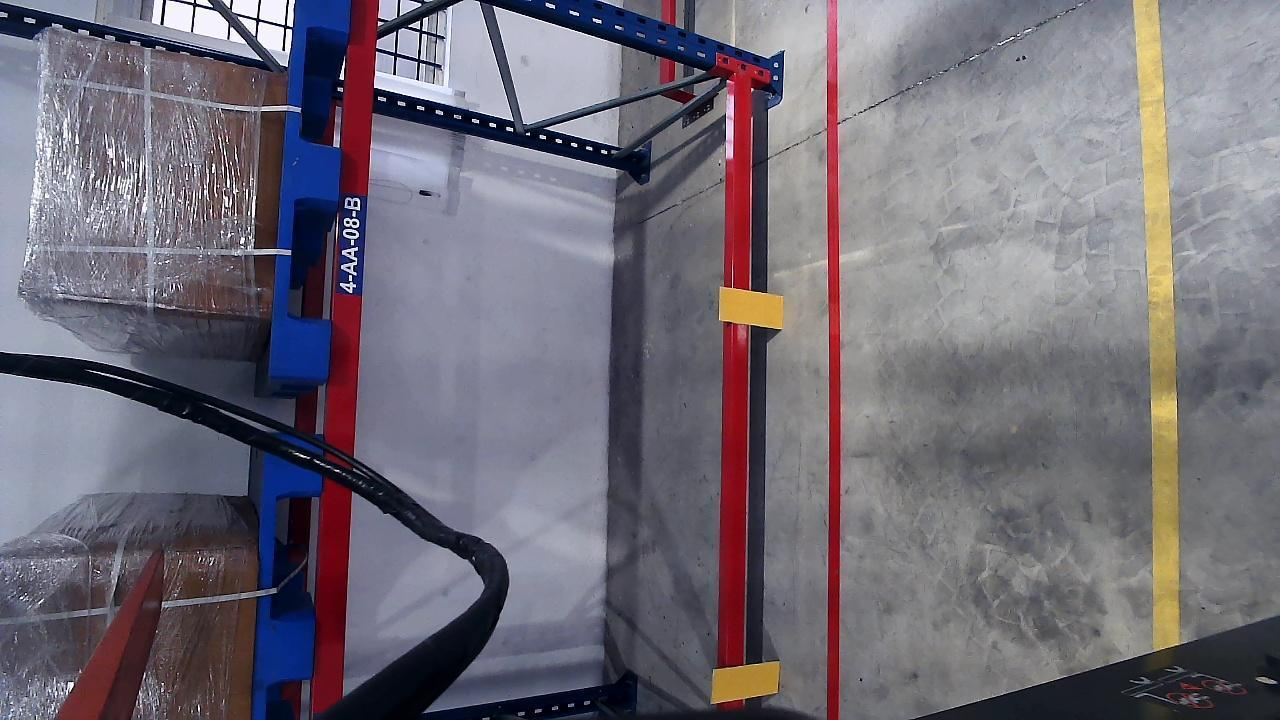red_line: (822, 0, 844, 720)
yellow_line: (1135, 0, 1181, 645)
